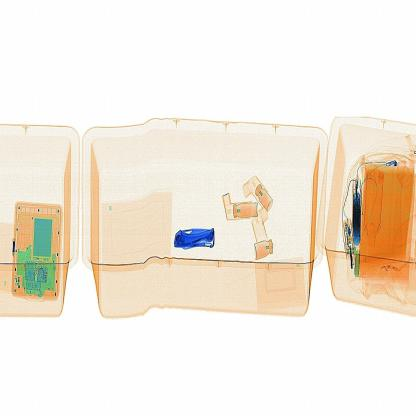knife: (168, 219, 218, 254)
